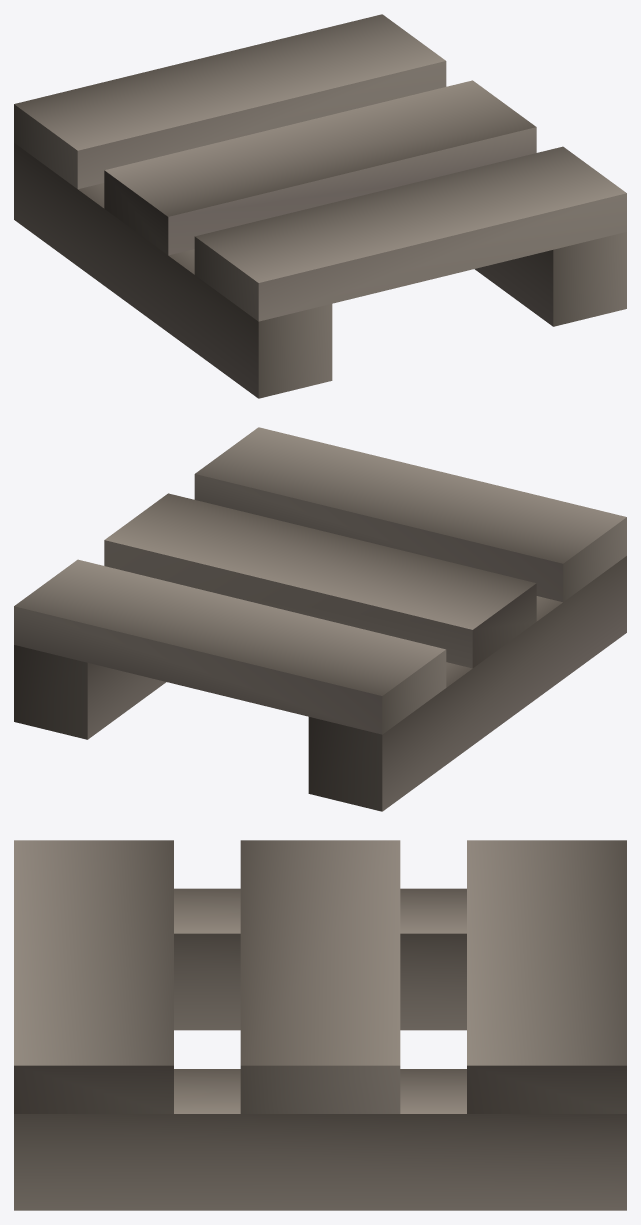
The model's file is pallet-small.glb.
3 renders of one model, top to bottom at view 1: azimuth 30°, elevation 25°; view 2: azimuth 150°, elevation 25°; view 3: azimuth 270°, elevation 25°, orthographic. The views are drawn at different scales.
Visible parts, largest first — view 1: pallet-small; view 2: pallet-small; view 3: pallet-small.
Part boxes in pixels (x1,y1,x2,y2): pallet-small: (14, 14, 626, 398); pallet-small: (14, 427, 626, 811); pallet-small: (14, 840, 626, 1210).
Size of the model in its own units: 0.5 by 0.15 by 0.575.
